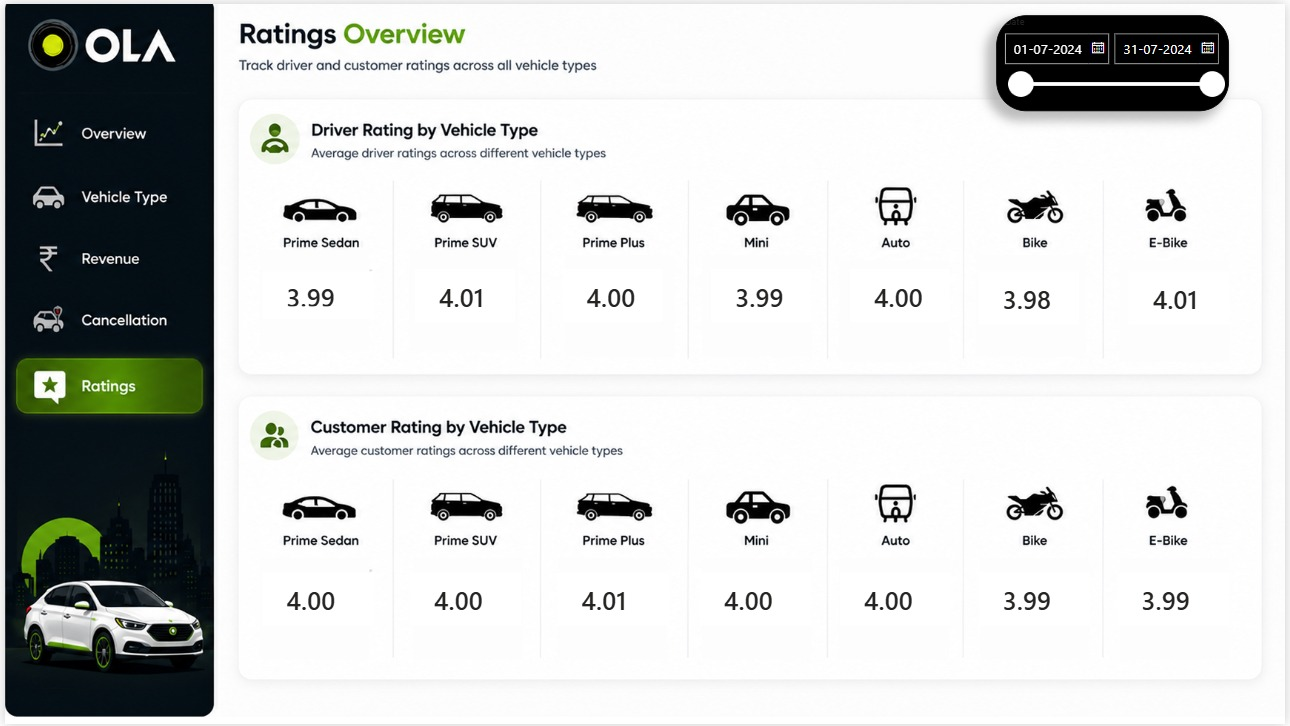

Layout of this report page (visuals, bound fields, positions):
{"tool":"powerbi","page":{"name":"Rating","canvas":[1280,720],"ordinal":4},"visuals":[{"type":"actionButton","box":[0,168.4,206.8,55.3],"z":0},{"type":"actionButton","box":[0,107.4,211.1,51.1],"z":1000},{"type":"actionButton","box":[0,231.6,211.1,56.8],"z":2000},{"type":"actionButton","box":[0,288.4,206.8,58.4],"z":3000},{"type":"cardVisual","fields":{"Data":["Avg(July.Driver_Ratings)"]},"box":[257.5,267.5,111.2,47.5],"z":4000},{"type":"cardVisual","fields":{"Data":["Avg(July.Driver_Ratings)"]},"box":[410,265,100,52.5],"z":5000},{"type":"cardVisual","fields":{"Data":["Avg(July.Driver_Ratings)"]},"box":[557.5,265,100,52.5],"z":6000},{"type":"cardVisual","fields":{"Data":["Avg(July.Driver_Ratings)"]},"box":[706.2,265,100,52.5],"z":7000},{"type":"cardVisual","fields":{"Data":["Avg(July.Driver_Ratings)"]},"box":[845.5,265,100,52.5],"z":8000},{"type":"cardVisual","fields":{"Data":["Avg(July.Driver_Ratings)"]},"box":[974,267.5,100,52.5],"z":9000},{"type":"cardVisual","fields":{"Data":["Avg(July.Driver_Ratings)"]},"box":[1124,267.5,100,52.5],"z":10000},{"type":"cardVisual","fields":{"Data":["Avg(July.Customer_Rating)"]},"box":[257.5,568.5,111,52.5],"z":11000},{"type":"cardVisual","fields":{"Data":["Avg(July.Customer_Rating)"]},"box":[404.5,568.5,111,52.5],"z":12000},{"type":"cardVisual","fields":{"Data":["Avg(July.Customer_Rating)"]},"box":[552,568.5,111,52.5],"z":13000},{"type":"cardVisual","fields":{"Data":["Avg(July.Customer_Rating)"]},"box":[695,568.5,111.5,52.5],"z":14000},{"type":"cardVisual","fields":{"Data":["Avg(July.Customer_Rating)"]},"box":[834.5,568.5,111,52.5],"z":15000},{"type":"cardVisual","fields":{"Data":["Avg(July.Customer_Rating)"]},"box":[974,568.5,111,52.5],"z":16000},{"type":"cardVisual","fields":{"Data":["Avg(July.Customer_Rating)"]},"box":[1113,569,111,52.5],"z":17000},{"type":"slicer","title":"DATE","fields":{"Values":["July.Date"]},"box":[991.2,11.2,232.5,96.2],"z":20000}]}

Visuals, with their boxes in screenshot pixels (x1, y1, x2, y2), scaled from the page's 1280x720 canvas onto the 1290x726 screenshot:
actionButton: (0, 170, 208, 226)
actionButton: (0, 108, 213, 160)
actionButton: (0, 234, 213, 291)
actionButton: (0, 291, 208, 350)
cardVisual - Avg(July.Driver_Ratings): (260, 270, 372, 318)
cardVisual - Avg(July.Driver_Ratings): (413, 267, 514, 320)
cardVisual - Avg(July.Driver_Ratings): (562, 267, 663, 320)
cardVisual - Avg(July.Driver_Ratings): (712, 267, 812, 320)
cardVisual - Avg(July.Driver_Ratings): (852, 267, 953, 320)
cardVisual - Avg(July.Driver_Ratings): (982, 270, 1082, 323)
cardVisual - Avg(July.Driver_Ratings): (1133, 270, 1234, 323)
cardVisual - Avg(July.Customer_Rating): (260, 573, 371, 626)
cardVisual - Avg(July.Customer_Rating): (408, 573, 520, 626)
cardVisual - Avg(July.Customer_Rating): (556, 573, 668, 626)
cardVisual - Avg(July.Customer_Rating): (700, 573, 813, 626)
cardVisual - Avg(July.Customer_Rating): (841, 573, 953, 626)
cardVisual - Avg(July.Customer_Rating): (982, 573, 1093, 626)
cardVisual - Avg(July.Customer_Rating): (1122, 574, 1234, 627)
"DATE" slicer: (999, 11, 1233, 108)
